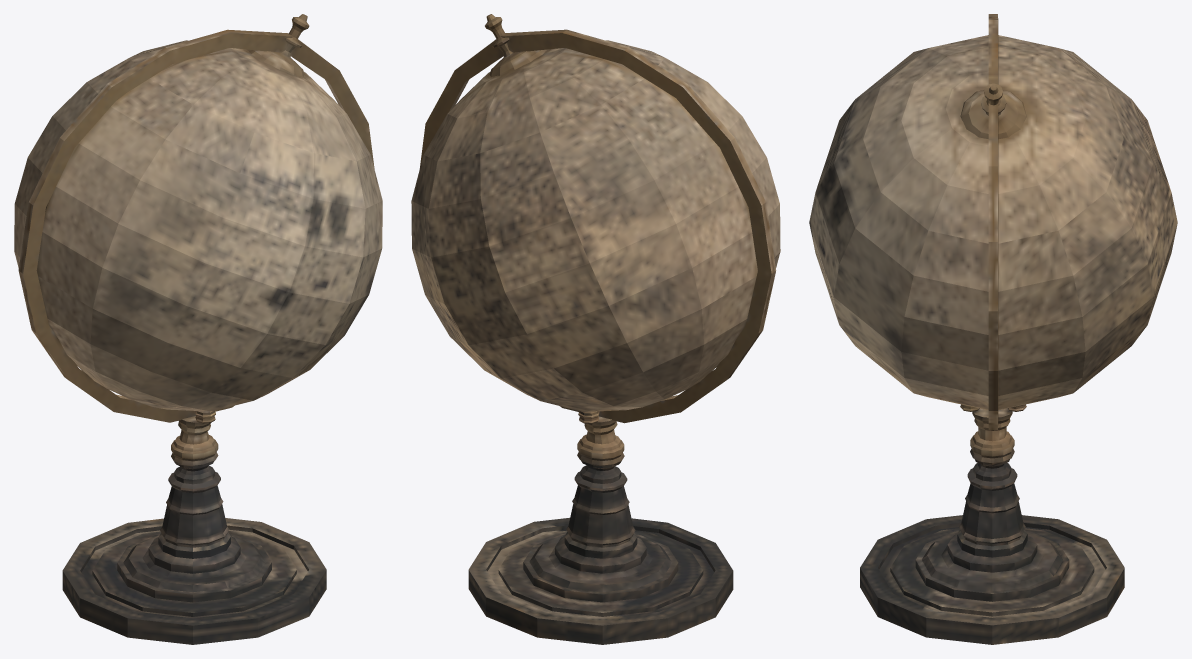
File: FloorGlobe.fbx
The picture shows the model from 3 angles, left to right: view 1: azimuth 30°, elevation 25°; view 2: azimuth 150°, elevation 25°; view 3: azimuth 270°, elevation 25°; orthographic projection.
Visible parts, largest first — view 1: FloorGlobe_Low; view 2: FloorGlobe_Low; view 3: FloorGlobe_Low.
Boxes of the visible parts, x1=… form: FloorGlobe_Low: x1=14, y1=14, x2=382, y2=644; FloorGlobe_Low: x1=411, y1=14, x2=780, y2=644; FloorGlobe_Low: x1=809, y1=14, x2=1177, y2=644.
Bounding box in the file's own units: 0.3254 × 0.4828 × 0.2893.
